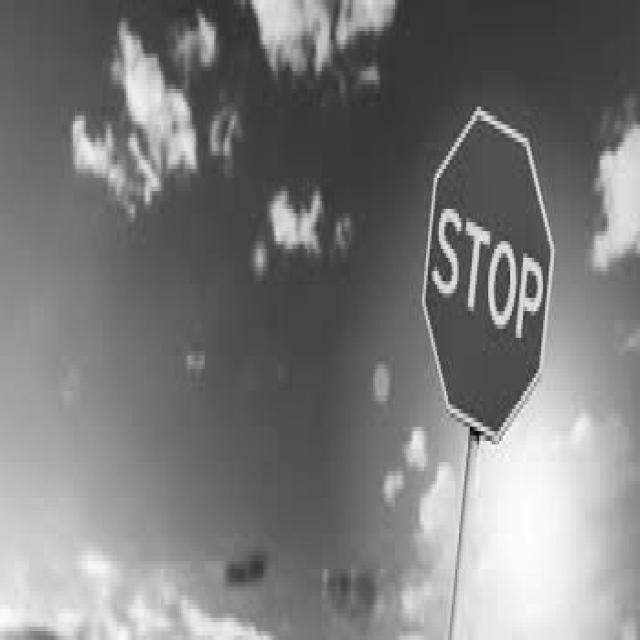stop sign: (420, 106, 553, 444)
